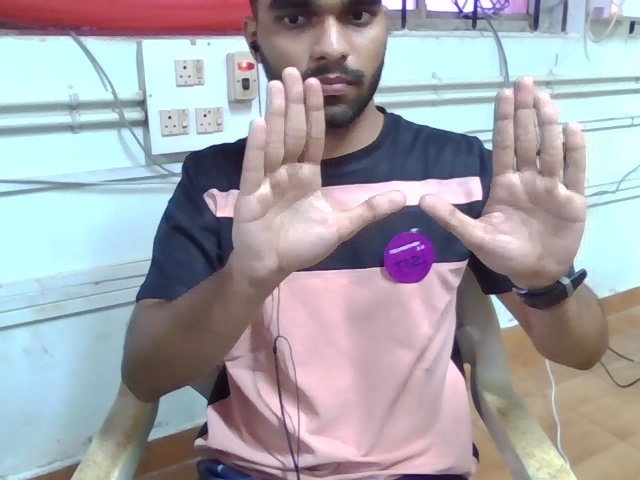All done: (226, 60, 606, 316)
